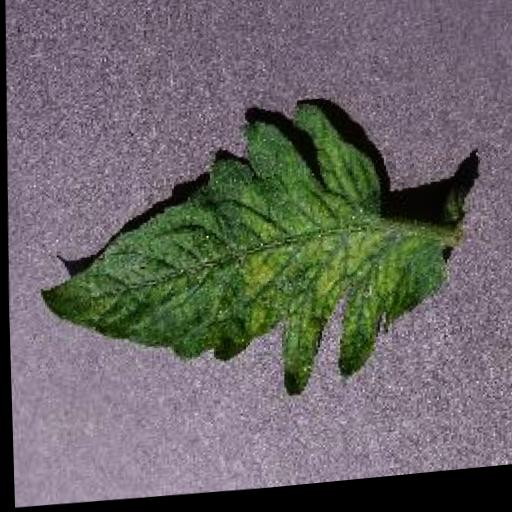Mosaic Virus: (28, 89, 454, 426)
